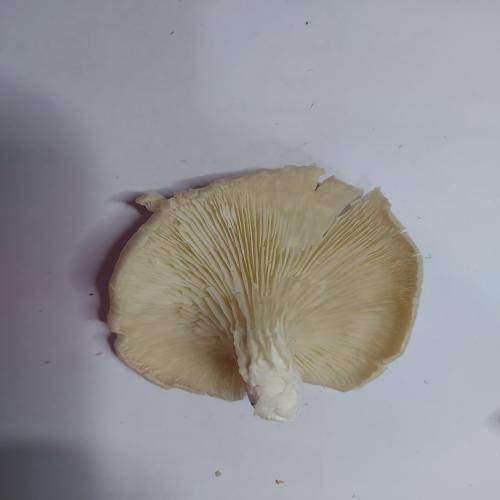Oyster Mushroom: (105, 163, 424, 423)
